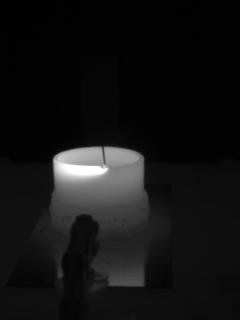tip_wire_left: (86, 142, 106, 169)
tip_wire_right: (103, 140, 115, 168)
